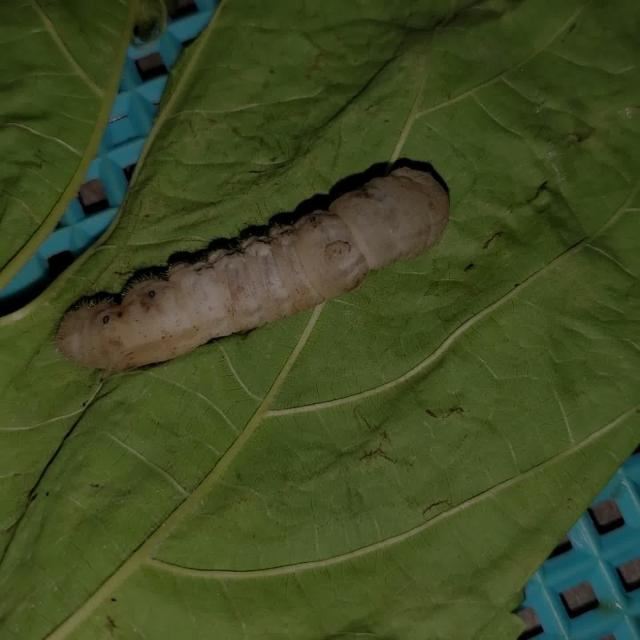Grasserie: (51, 149, 466, 388)
